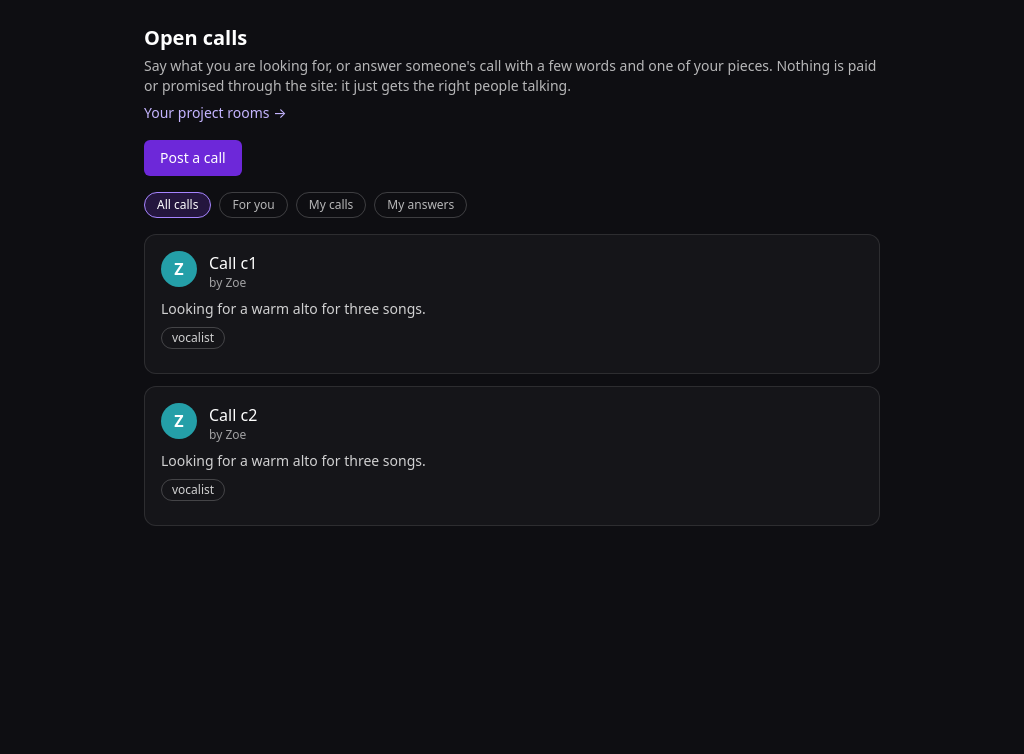
Test: CallsPage › keeps the form and says why when posting fails
The image size is (1024, 754).
Step 1. Click the button "Post a call" → (193, 158), box [144,140,242,176]
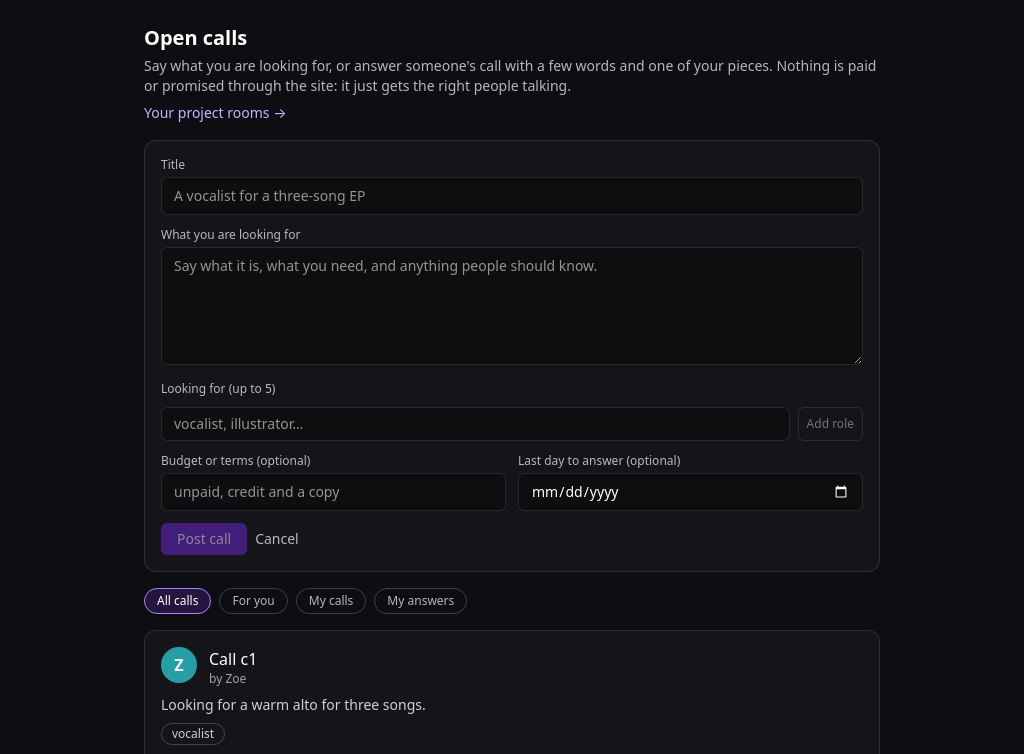
Step 2. Type "Another" into the field labelled "Title" → (512, 196), box [161,177,863,215]
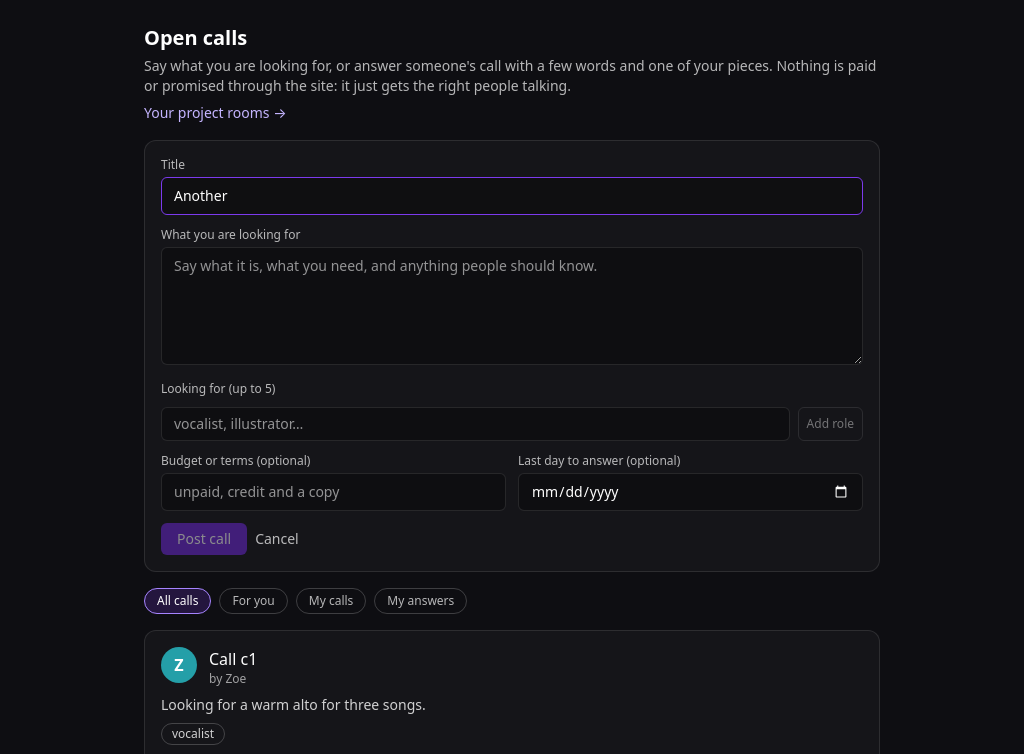
Step 3. Type "Details" into the text box labelled "What you are looking for" → (512, 306), box [161,247,863,365]
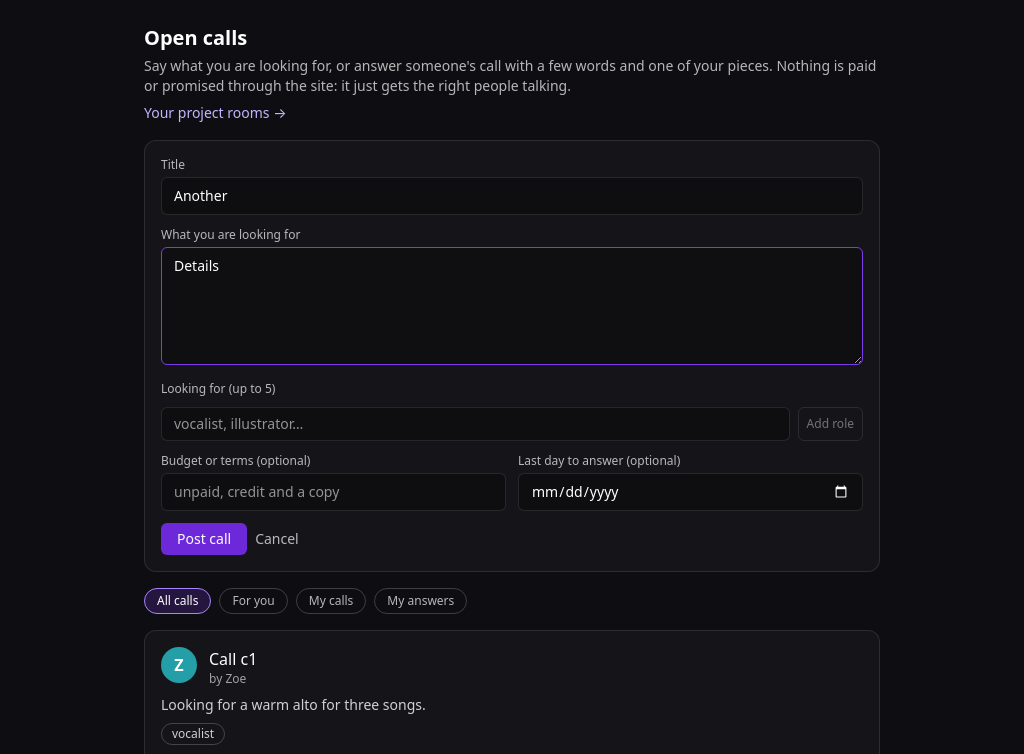
Step 4. Click the button "Post call" → (204, 539), box [161,523,247,555]
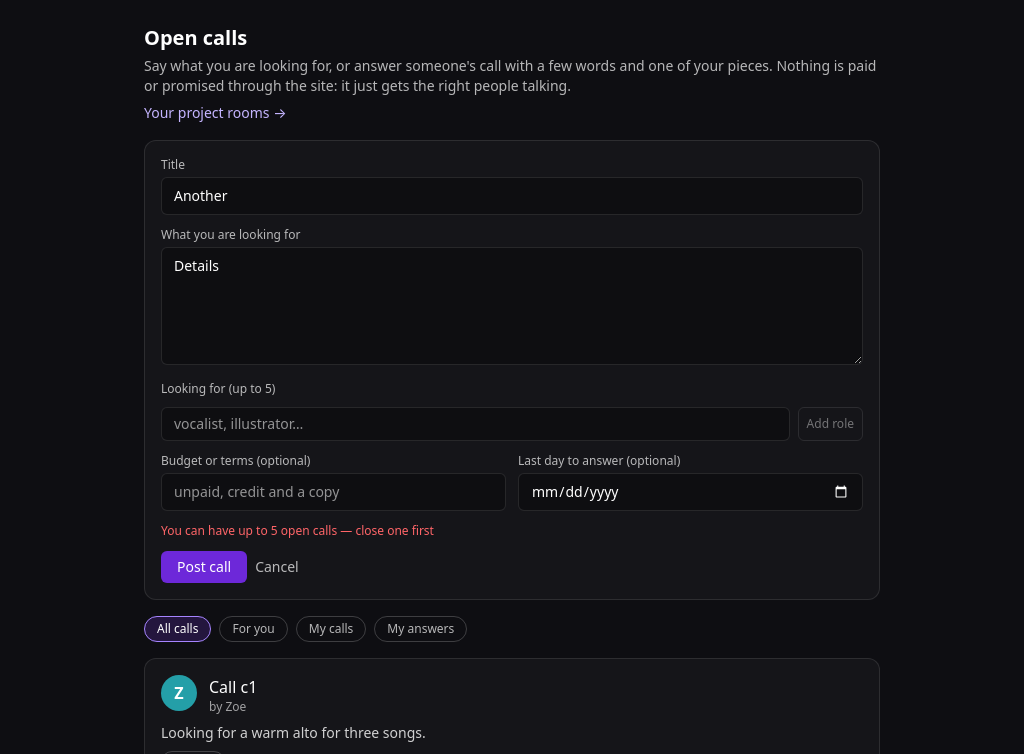
expect the message shows "up to 5 open calls": met, box [161,522,434,539]
